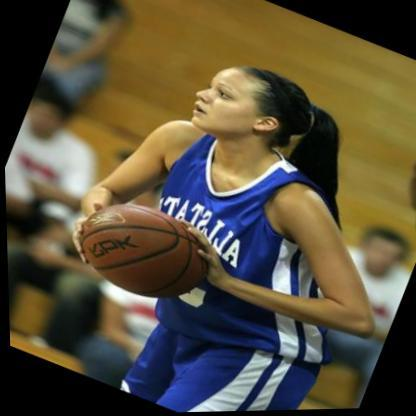basketball: (69, 185, 226, 320)
